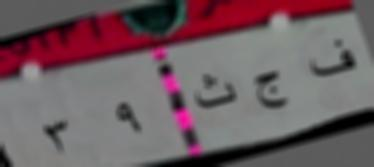3: (39, 110, 80, 159)
9: (110, 96, 150, 143)
faa: (305, 32, 362, 84)
jeem: (250, 62, 290, 109)
thaa: (192, 66, 244, 114)
